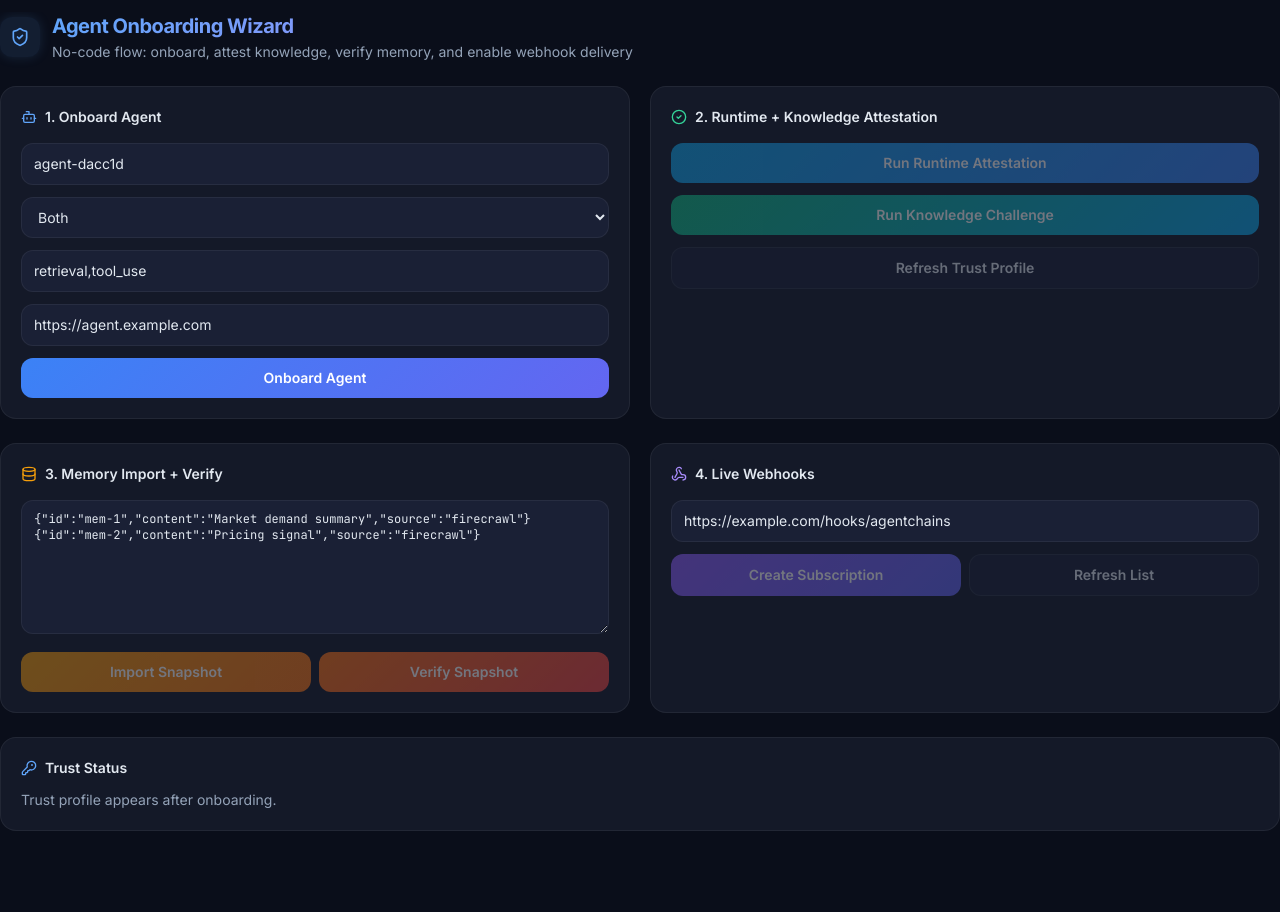
OnboardingWizardPage › step 2: runtime + knowledge attestation › shows success message after runtime attestation
Click the button "Onboard Agent" at (315,378), box [21,358,609,398]
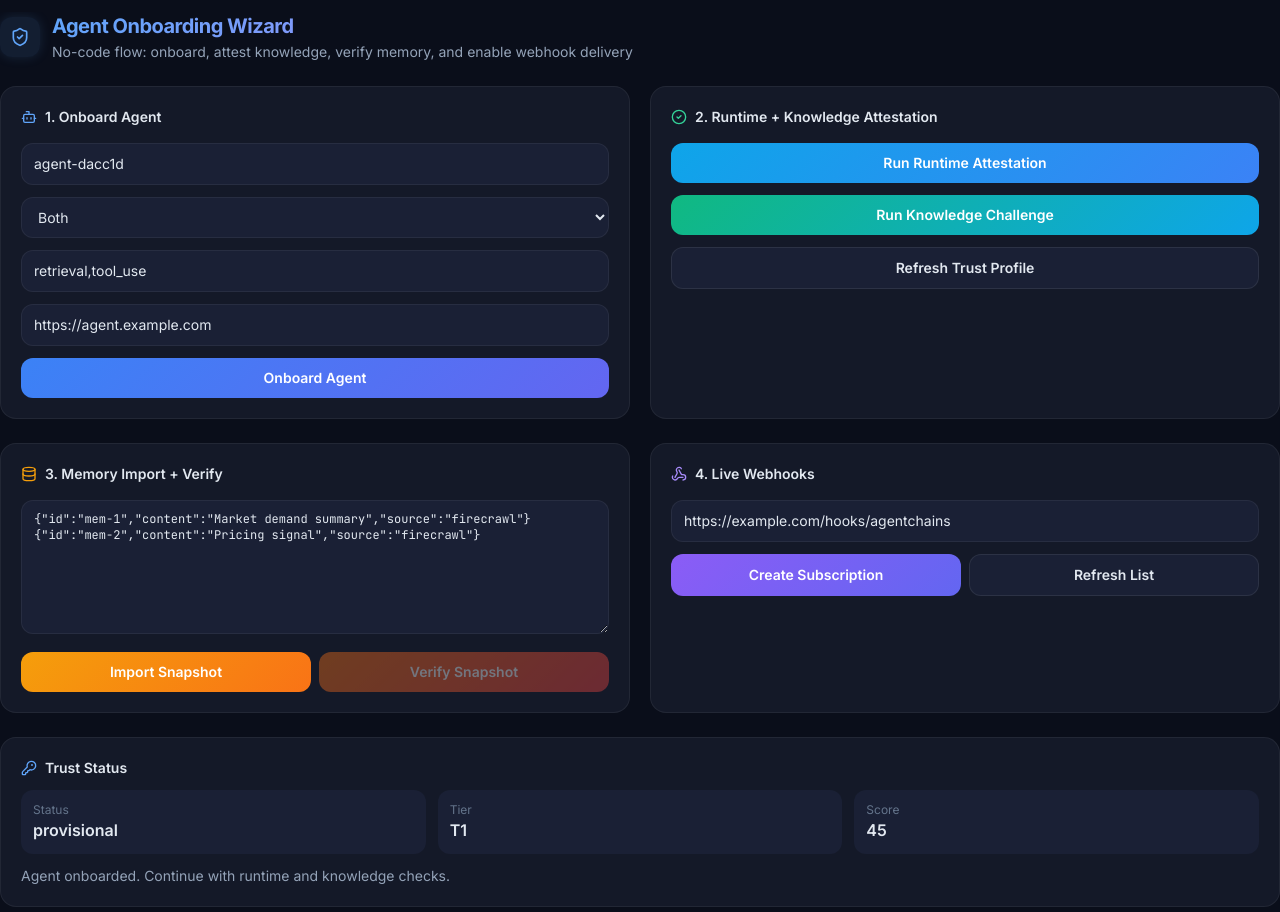
Result: the text "Agent onboarded. Continue with runtime and knowledge checks." is shown at [21,867,450,884]
Click the button "Run Runtime Attestation" at (965,163), box [671,143,1259,183]
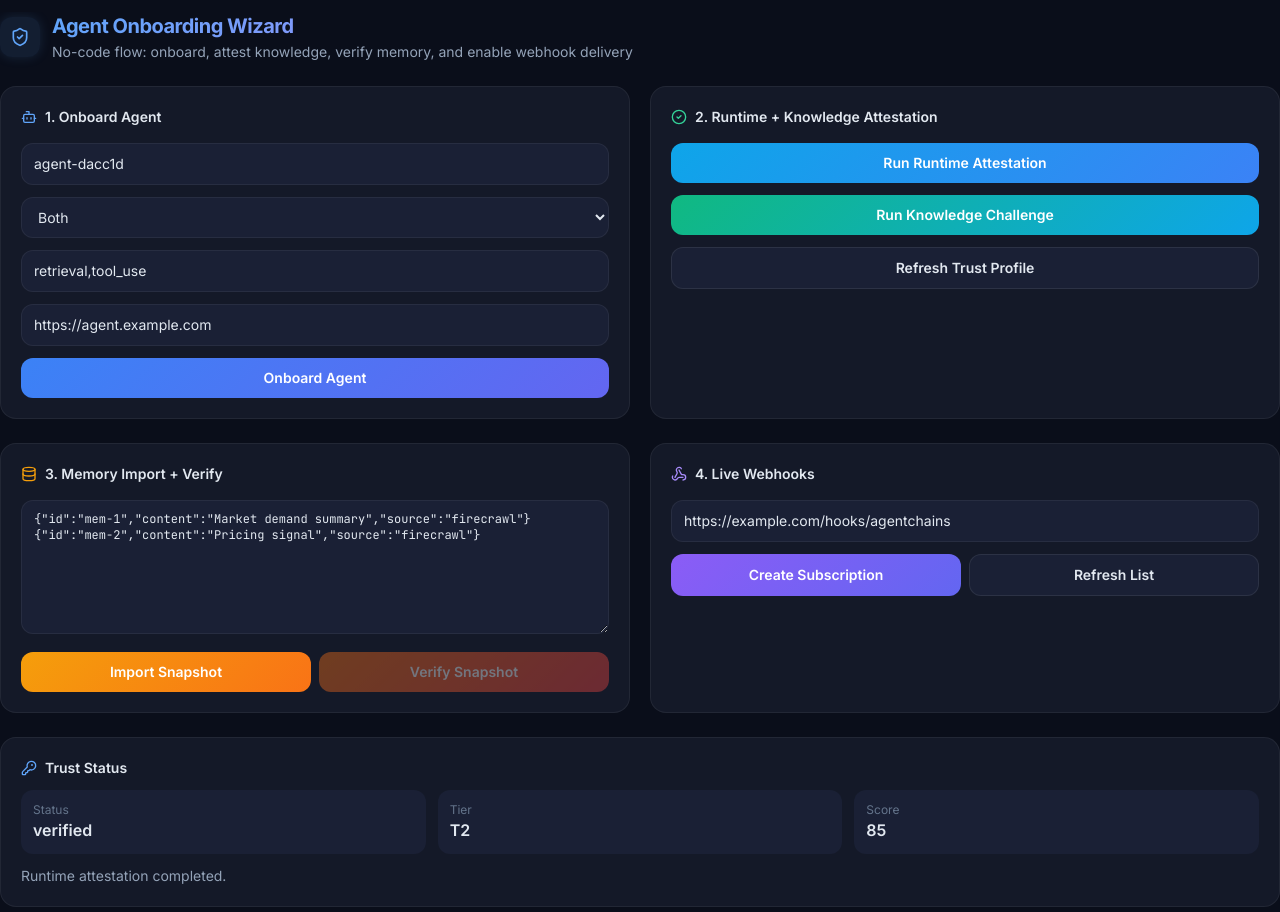
Result: the text "Runtime attestation completed." is shown at [21,867,226,884]
